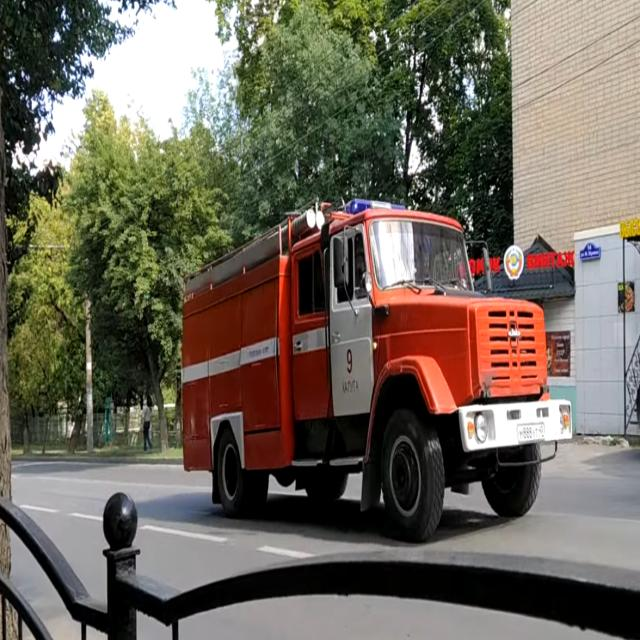fire fighting vehicle: (180, 200, 572, 543)
